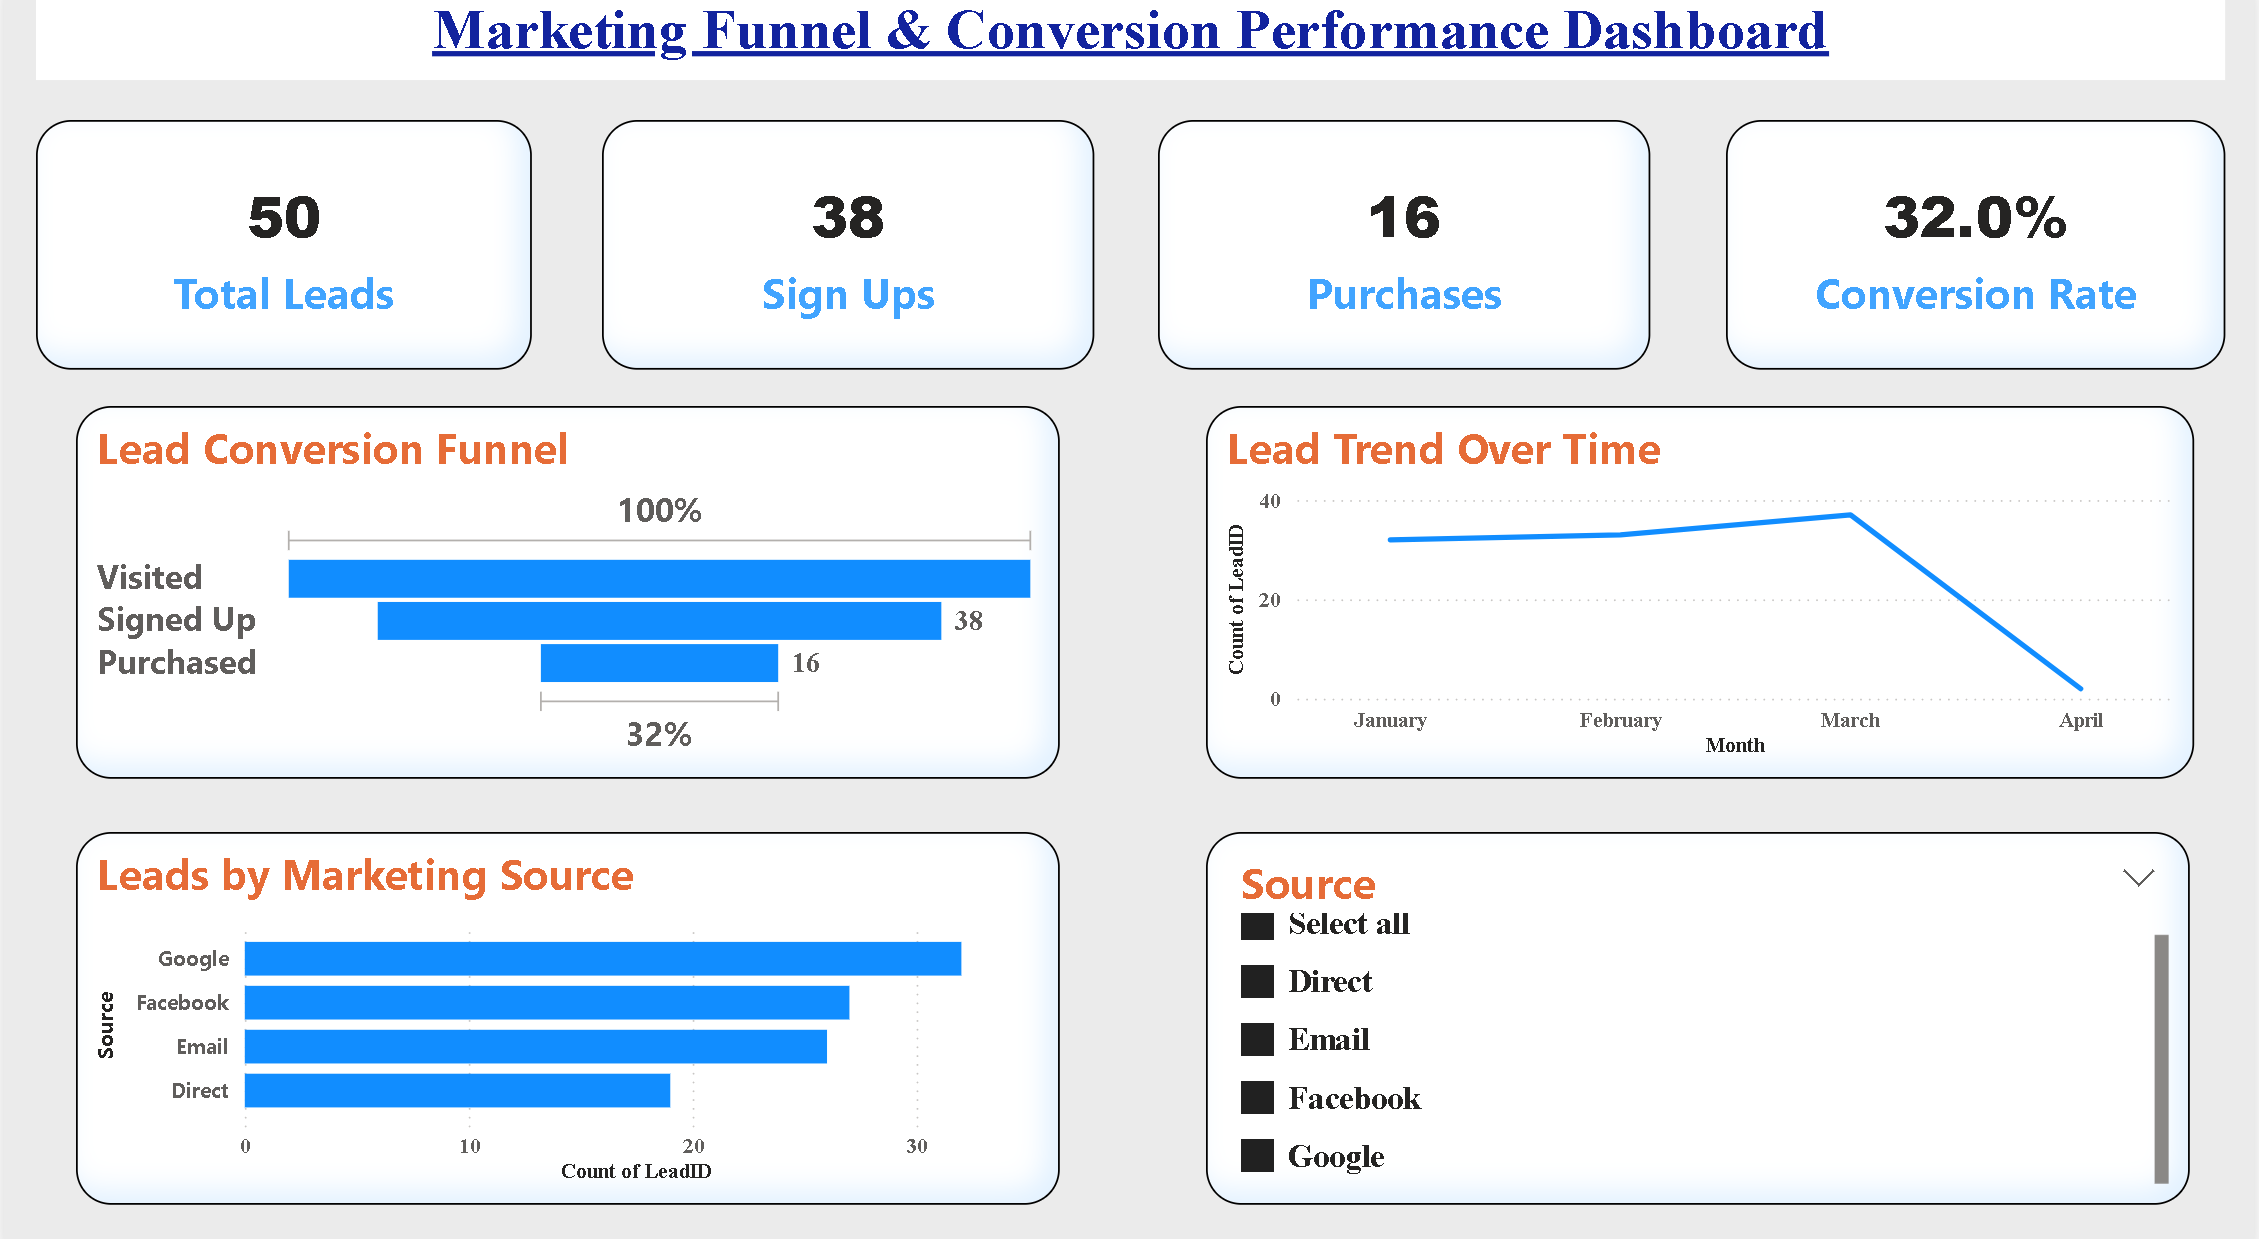

What the dashboard file says about the page in this screenshot:
{"tool":"powerbi","page":{"name":"Page 1","canvas":[1280,720],"ordinal":0},"visuals":[{"type":"card","fields":{"Values":["FunnelData.Total Leads"]},"box":[18.5,76.1,281.9,142],"z":0},{"type":"card","fields":{"Values":["FunnelData.Sign Ups"]},"box":[339.5,76.1,279.9,142],"z":1000},{"type":"card","fields":{"Values":["FunnelData.Purchases"]},"box":[656.5,76.1,279.9,142],"z":2000},{"type":"card","fields":{"Values":["FunnelData.Conversion Rate"]},"box":[979.5,76.1,284,142],"z":3000},{"type":"funnel","title":"Lead Conversion Funnel","fields":{"Category":["FunnelData.Stage"],"Y":["CountNonNull(FunnelData.LeadID)"]},"box":[41.2,238.7,559.7,212],"z":4000},{"type":"clusteredBarChart","title":"Leads by Marketing Source","fields":{"Category":["FunnelData.Source"],"Y":["CountNonNull(FunnelData.LeadID)"]},"box":[41.2,481.5,559.7,212],"z":4001},{"type":"lineChart","title":"Lead Trend Over Time","fields":{"Category":["FunnelData.Date.Variation.Date Hierarchy.Month"],"Y":["CountNonNull(FunnelData.LeadID)"]},"box":[683.2,238.7,561.8,212],"z":4002},{"type":"slicer","fields":{"Values":["FunnelData.Source"]},"box":[683.2,481.5,559.7,212],"z":4003},{"type":"textbox","box":[18.5,0,1245,53.5],"z":4004}]}

Visuals, with their boxes in screenshot pixels (x1, y1, x2, y2), scaled from the page's 1280x720 canvas onto the 2259x1239 screenshot:
card - FunnelData.Total Leads: <region>33, 131, 530, 375</region>
card - FunnelData.Sign Ups: <region>599, 131, 1093, 375</region>
card - FunnelData.Purchases: <region>1159, 131, 1653, 375</region>
card - FunnelData.Conversion Rate: <region>1729, 131, 2230, 375</region>
"Lead Conversion Funnel" funnel: <region>73, 411, 1060, 776</region>
"Leads by Marketing Source" clusteredBarChart: <region>73, 829, 1060, 1193</region>
"Lead Trend Over Time" lineChart: <region>1206, 411, 2197, 776</region>
slicer - FunnelData.Source: <region>1206, 829, 2194, 1193</region>
textbox: <region>33, 0, 2230, 92</region>
